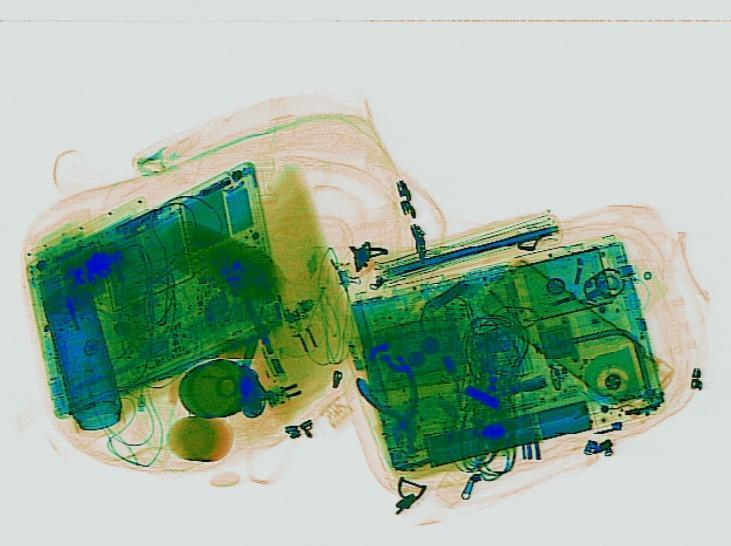Pliers: (351, 367, 437, 453)
